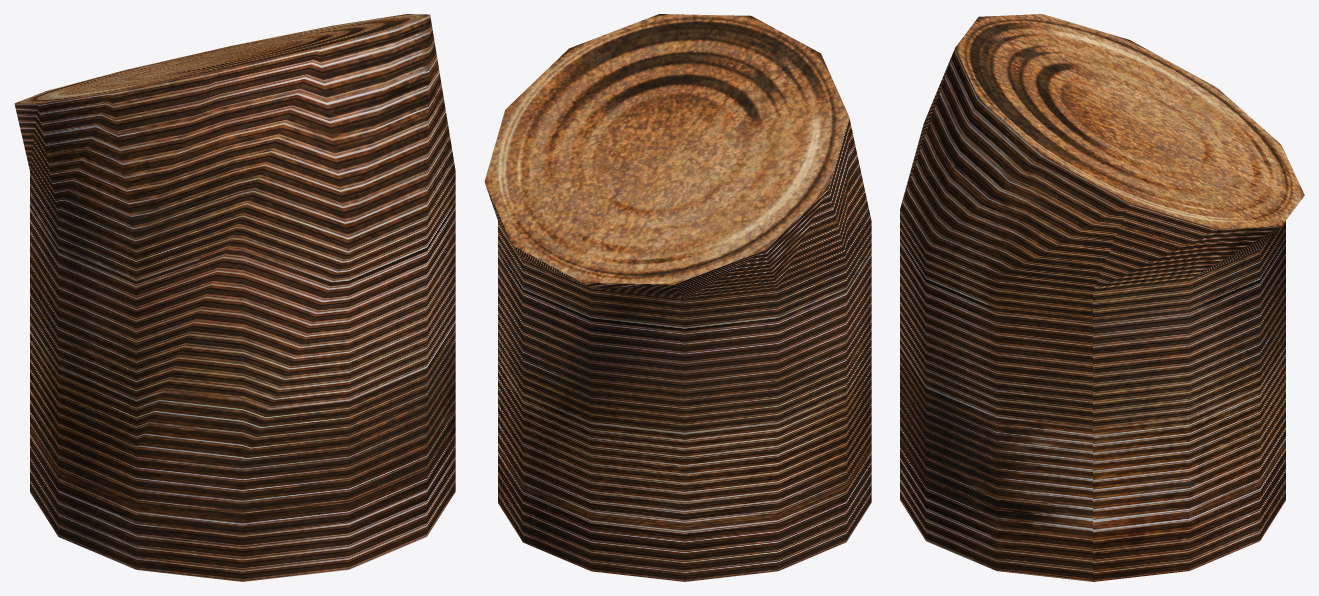
The model's file is TinCan1.FBX.
The picture shows the model from 3 angles, left to right: view 1: azimuth 30°, elevation 25°; view 2: azimuth 150°, elevation 25°; view 3: azimuth 270°, elevation 25°; orthographic projection. The views are drawn at different scales.
Visible parts, largest first — view 1: TinCan1; view 2: TinCan1; view 3: TinCan1.
Part boxes in pixels (box(x1,y1,x2,y2)): TinCan1: box(14, 14, 455, 581); TinCan1: box(484, 14, 871, 581); TinCan1: box(900, 14, 1304, 581).
Size of the model in its own units: 0.0956 by 0.1238 by 0.1003.
